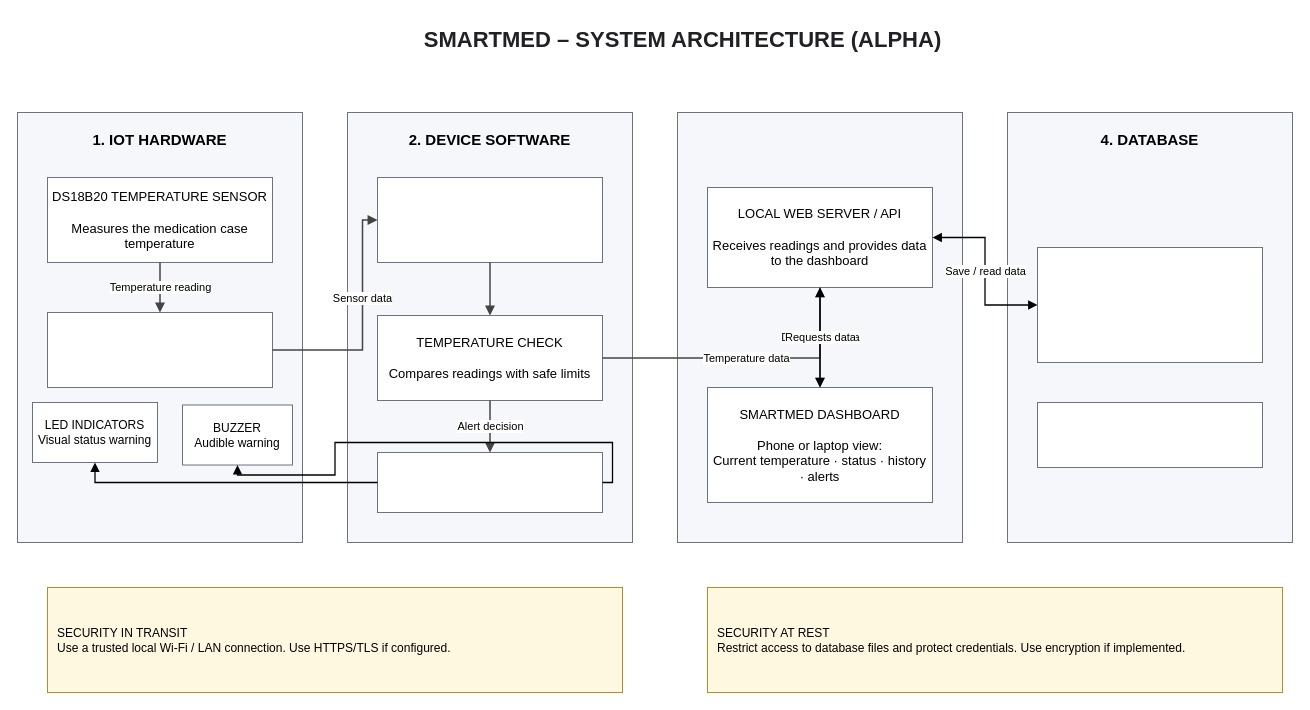
The diagram is 1310 pixels wide and 710 high, and some of its shapes have lost their labels. Each missing label, with the box of its shape:
3. WEB APPLICATION: (676, 112, 962, 542)
ALERT CONTROL Turns LEDs and buzzer on when needed: (376, 452, 602, 512)
LOCAL DATABASE Stores temperature readings, timestamps and alert status: (1036, 246, 1262, 362)
PYTHON MONITORING APP Reads and processes sensor data: (376, 176, 602, 262)
RASPBERRY PI 4 Receives sensor readings: (46, 312, 272, 388)
Stored data is available to the web server when the dashboard requests it.: (1036, 402, 1262, 468)
